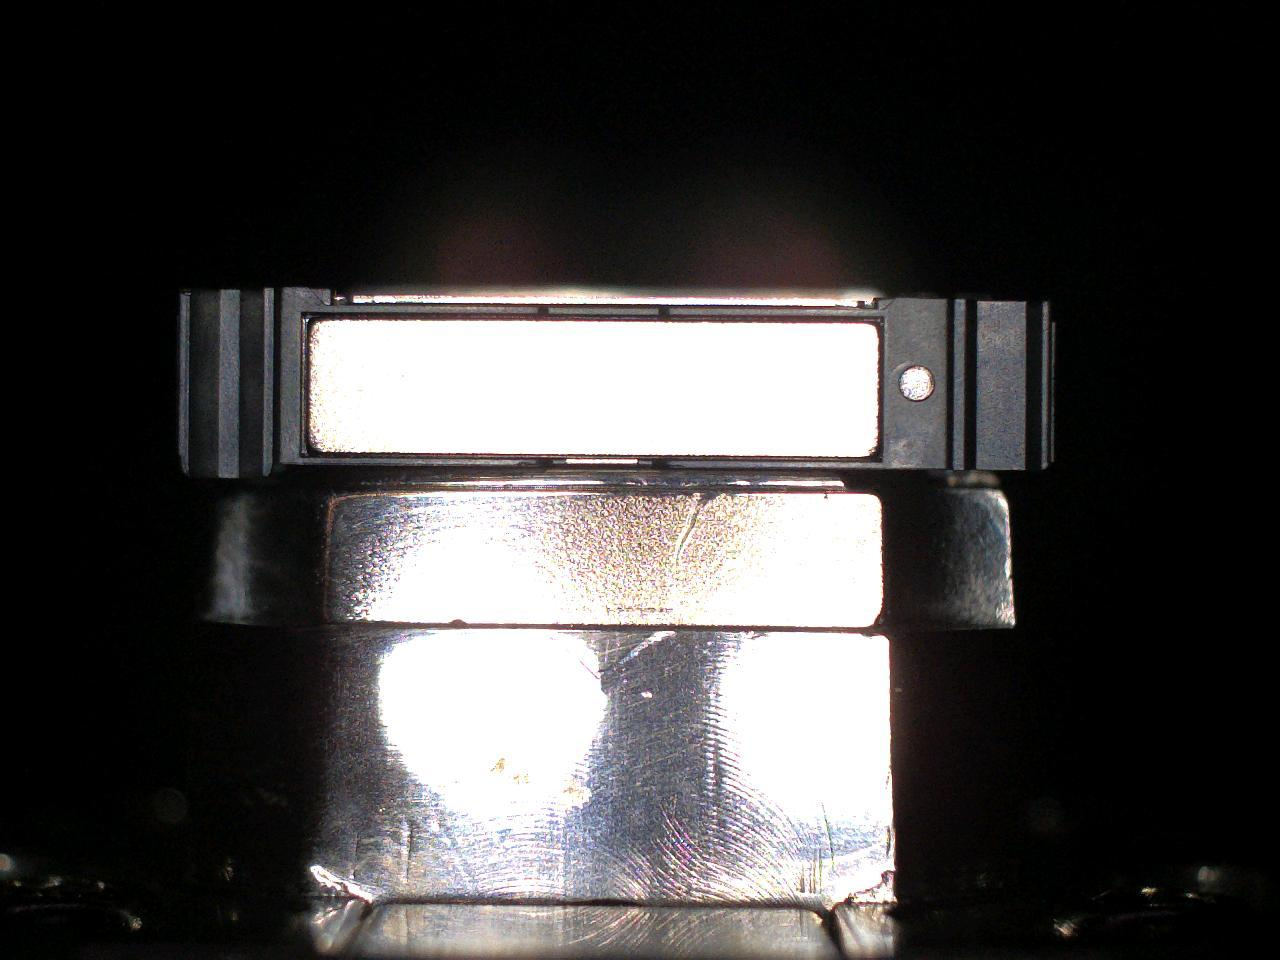frame: (179, 289, 1054, 479), (550, 308, 659, 315)
gap: (302, 312, 540, 321), (670, 316, 884, 325), (302, 451, 537, 459), (672, 455, 881, 461), (551, 315, 659, 322), (553, 455, 654, 459)
magnetic: (309, 322, 879, 455)
